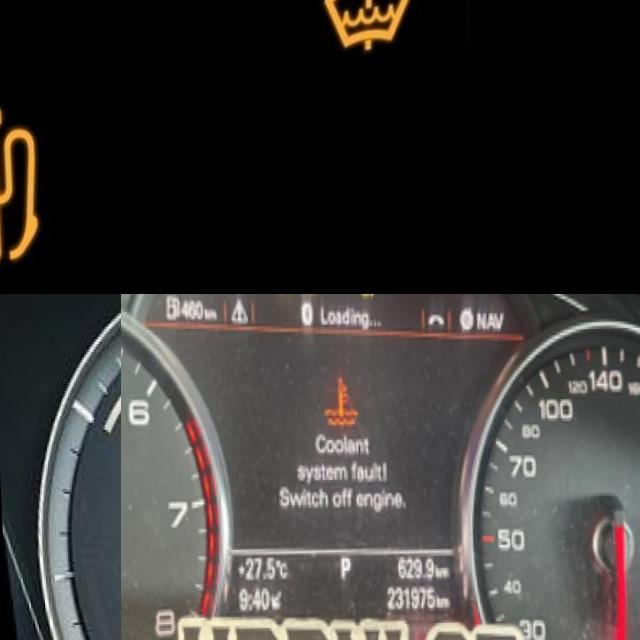High Engine Coolant Temperature: (316, 374, 359, 434)
Washer Fluid: (317, 0, 412, 53)
